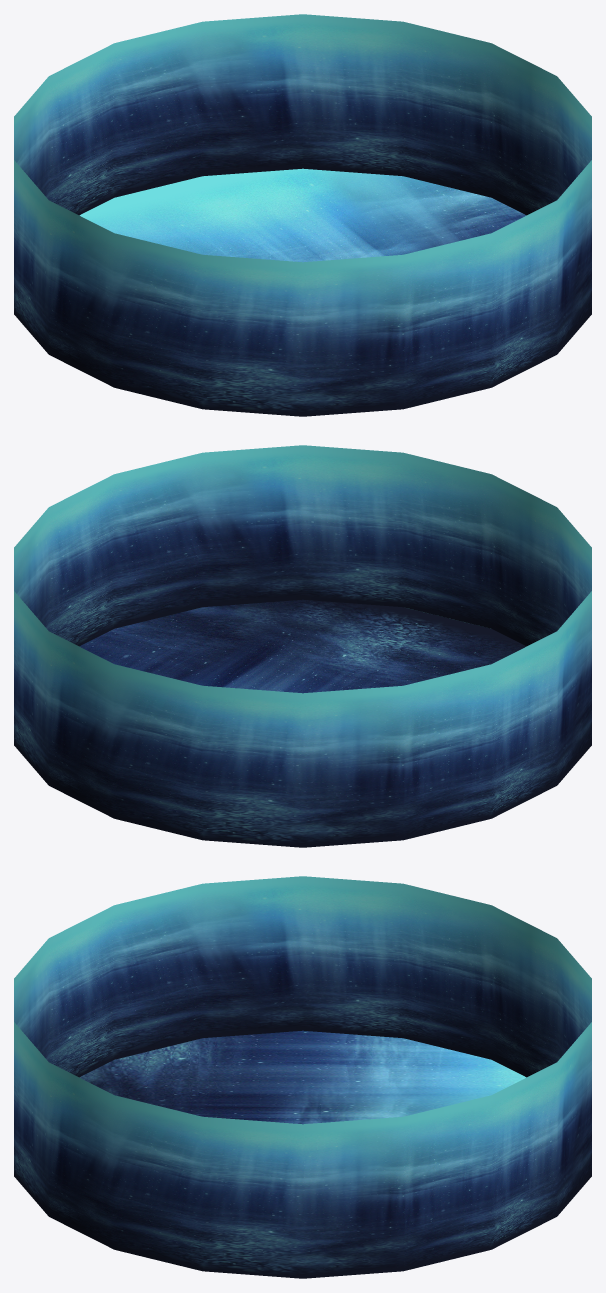
3 renders of one model, top to bottom at view 1: azimuth 30°, elevation 25°; view 2: azimuth 150°, elevation 25°; view 3: azimuth 270°, elevation 25°, orthographic.
Visible parts, largest first — view 1: Cylinder002, BG2; view 2: Cylinder002, BG2; view 3: Cylinder002, BG2.
Part boxes in pixels (x1,y1,x2,y2): Cylinder002: (14,14,591,416); BG2: (79,168,526,262); Cylinder002: (14,445,591,847); BG2: (79,599,526,693); Cylinder002: (14,876,591,1278); BG2: (79,1030,526,1124).
Bounding box in the file's own units: 12903 × 3749 × 12707.
